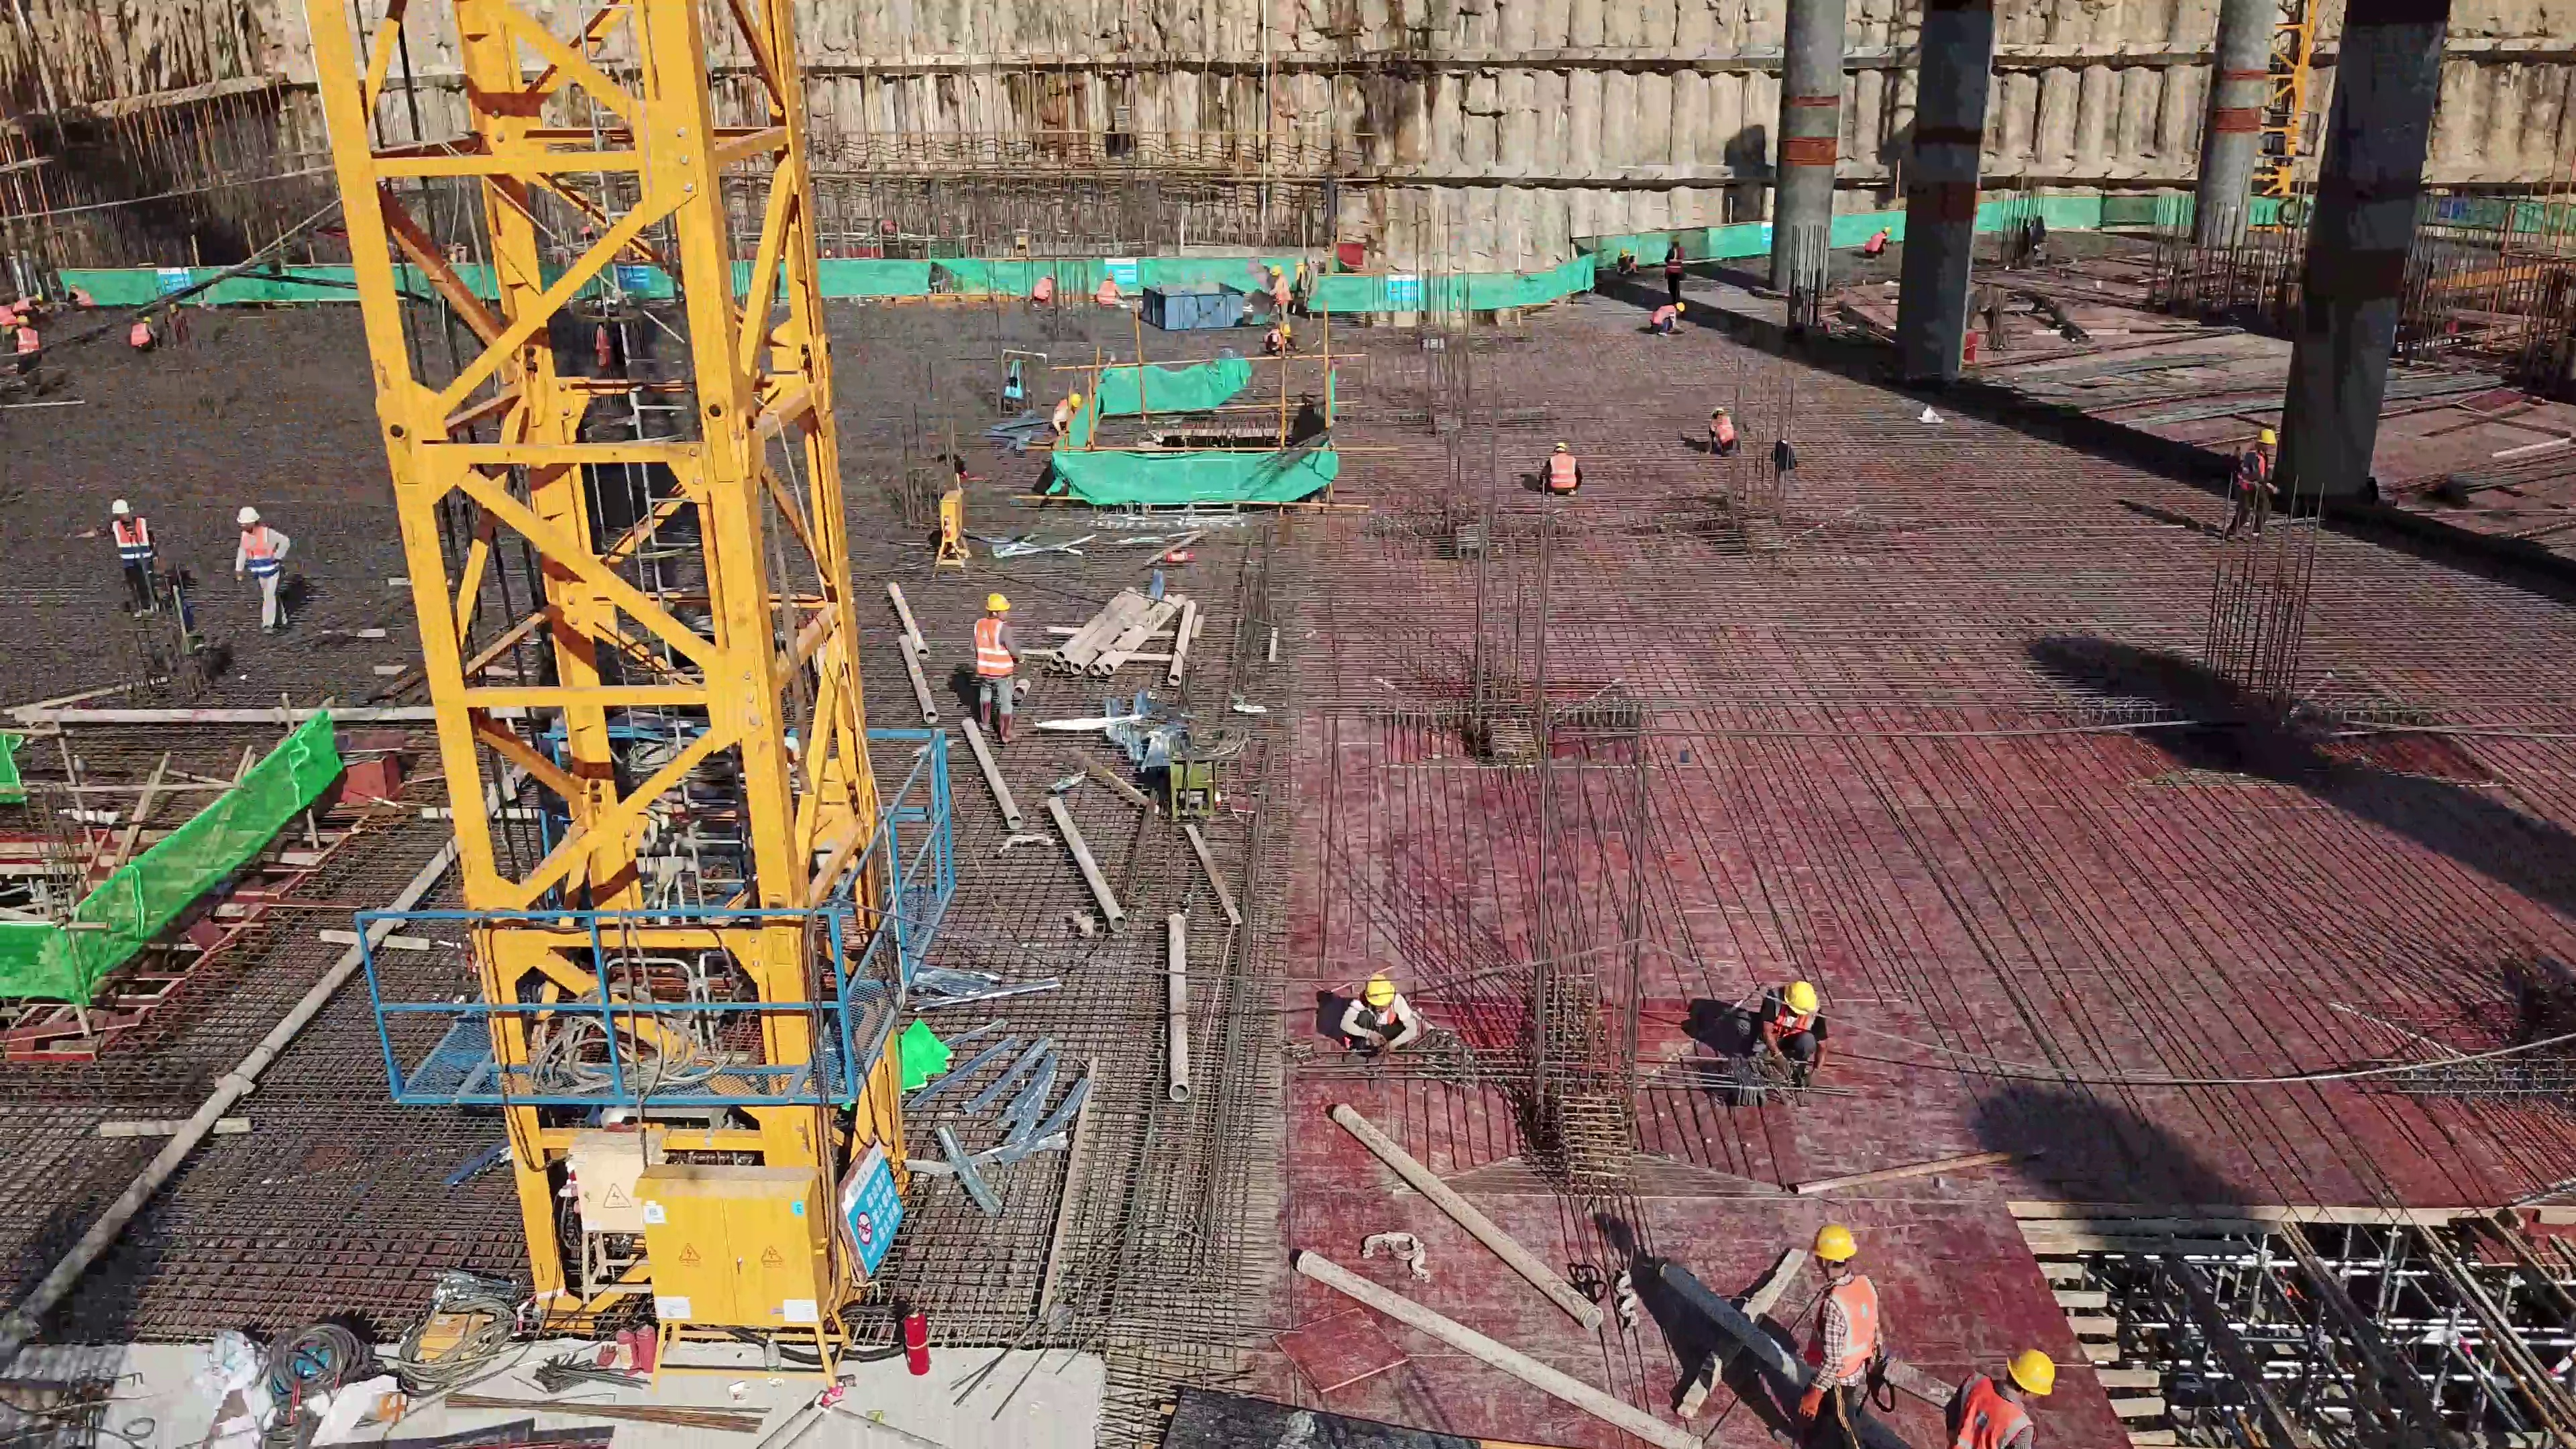ebox: (635, 1173, 839, 1391), (573, 1137, 654, 1299), (930, 492, 973, 562)
helmet: (2002, 1346, 2057, 1397), (1806, 1223, 1856, 1263), (1783, 980, 1819, 1016), (1362, 974, 1397, 1010), (984, 594, 1016, 617), (113, 499, 136, 517), (2256, 426, 2275, 445), (239, 505, 256, 524), (1066, 392, 1079, 408), (1554, 439, 1568, 450), (15, 314, 25, 326), (1673, 301, 1680, 312), (1271, 266, 1278, 278), (1619, 247, 1624, 257)
hopper: (1141, 278, 1250, 331)
person: (1773, 1224, 1886, 1448), (1943, 1348, 2060, 1448), (1738, 979, 1827, 1087), (969, 591, 1022, 745), (1338, 974, 1419, 1065), (101, 498, 163, 618), (235, 506, 292, 632), (2228, 427, 2276, 542), (14, 315, 44, 392), (1540, 442, 1580, 498), (1267, 266, 1290, 329), (1706, 407, 1738, 451), (1650, 301, 1683, 337), (1666, 233, 1685, 299), (1028, 272, 1060, 306), (1264, 325, 1299, 354), (1095, 272, 1123, 307), (130, 315, 157, 350), (1052, 394, 1079, 431), (1864, 226, 1890, 262), (66, 283, 90, 312), (1618, 248, 1633, 276), (878, 211, 894, 233), (580, 221, 593, 239)
slogan: (835, 1165, 911, 1266), (158, 266, 189, 300), (620, 260, 650, 292), (1104, 260, 1130, 287), (1391, 280, 1417, 305), (1758, 224, 1772, 245)
vest: (1953, 1370, 2033, 1449), (1810, 1279, 1873, 1371), (975, 619, 1011, 676), (241, 527, 278, 578), (1770, 1003, 1813, 1038), (112, 521, 151, 555), (2239, 451, 2269, 488), (1549, 454, 1575, 487), (16, 328, 38, 353), (1714, 416, 1733, 444), (1668, 245, 1684, 274), (130, 323, 150, 346), (1653, 305, 1671, 325), (1867, 232, 1884, 253), (1098, 282, 1114, 302), (1038, 279, 1051, 301), (1275, 277, 1287, 302), (73, 288, 87, 305)
